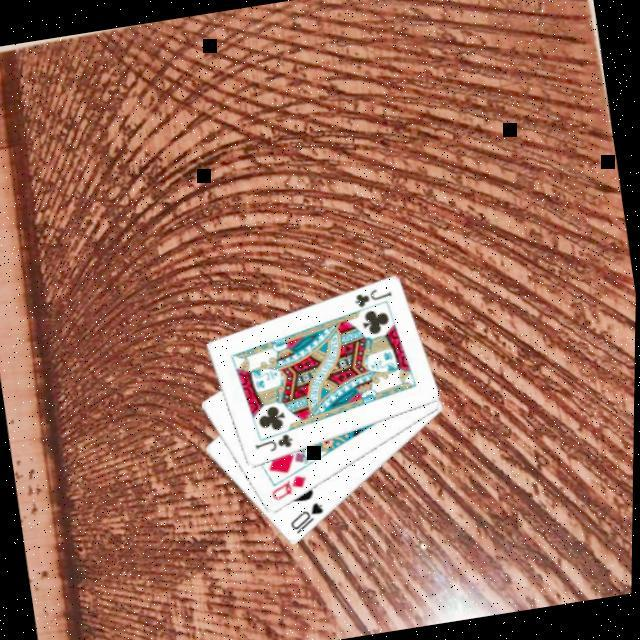10S: (285, 500, 330, 540)
JC: (250, 432, 297, 461), (350, 286, 396, 314)
QD: (266, 473, 312, 507)
